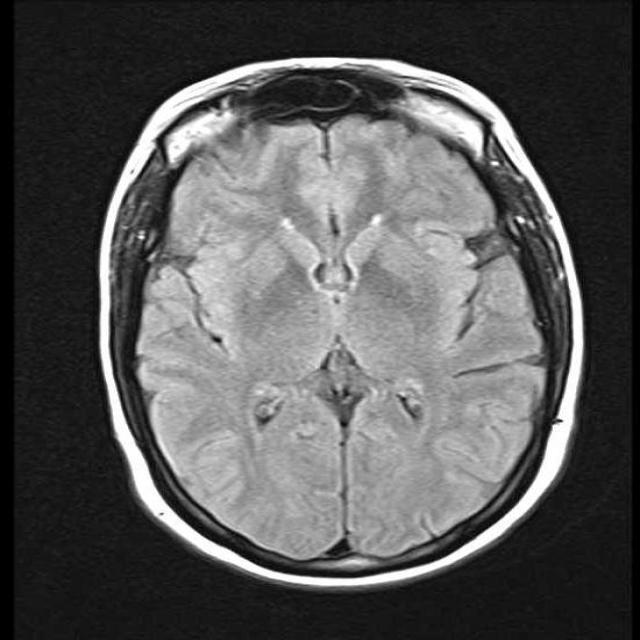No_Tumor: (99, 58, 584, 589)
